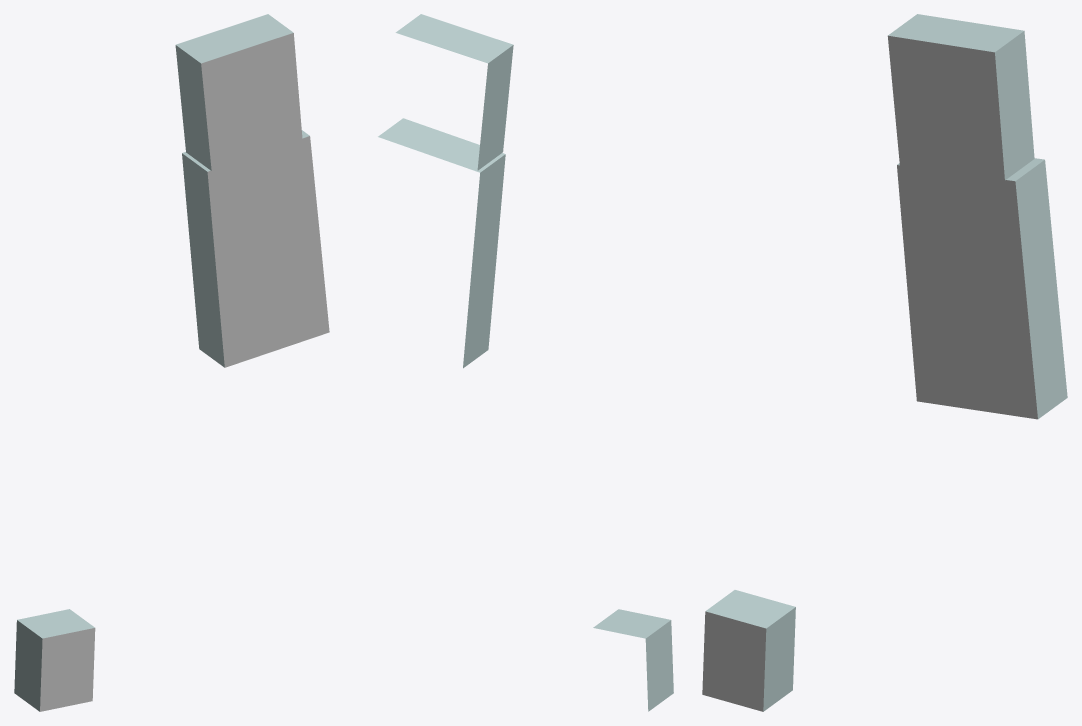
3 views of the same model, side by side, from view 1: azimuth 30°, elevation 25°; view 2: azimuth 150°, elevation 25°; view 3: azimuth 330°, elevation 25° (orthographic). The views are drawn at different scales.
Parts seen in each view (by area): view 1: 0_2_3_3_3_1_0_3_2; view 2: 0_2_3_3_3_1_0_3_2; view 3: 0_2_3_3_3_1_0_3_2.
Boxes of the visible parts, <box> form: 0_2_3_3_3_1_0_3_2: <box>14,14,329,711</box>; 0_2_3_3_3_1_0_3_2: <box>378,14,673,711</box>; 0_2_3_3_3_1_0_3_2: <box>702,14,1067,711</box>.
Size of the model in its own units: 19.61 by 40.04 by 3.09.
